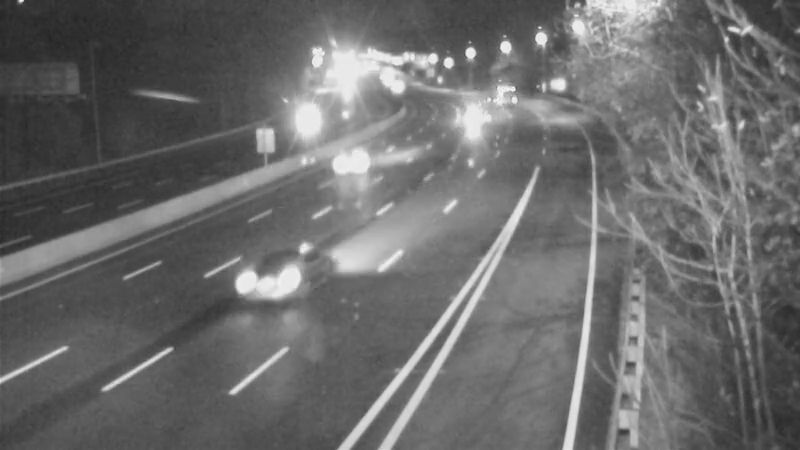vehicle: (307, 115, 387, 195), (224, 247, 304, 327), (477, 71, 527, 121), (457, 96, 507, 146), (283, 90, 333, 140)
